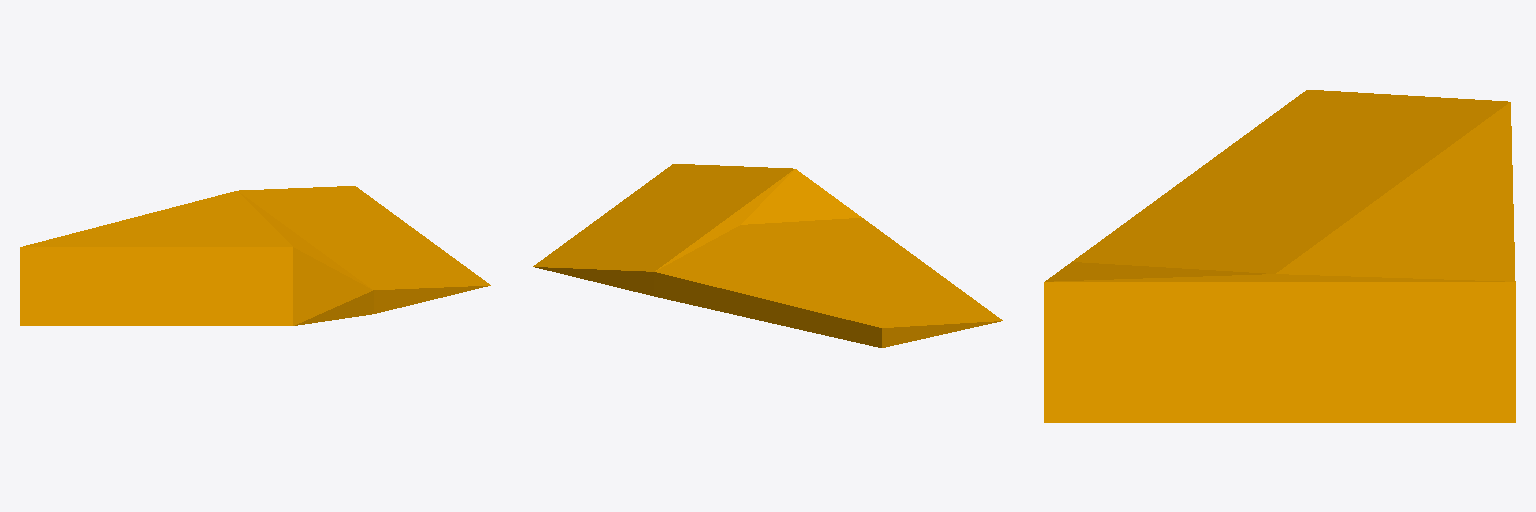
The robot description file, URDF, robot "block2_9_11":
<?xml version="1.0" ?>
<robot name="block2_9_11">
  <link name="block2_9_11__link_0">
    <inertial>
      <mass value="1000"/>
      <origin rpy="0 0 0" xyz="0 0 0"/>
      <inertia ixx="0.166667" ixy="0" ixz="0" iyy="0.166667" iyz="0" izz="0.166667"/>
    </inertial>
    <collision name="block2_9_11__collision">
      <origin rpy="0 0 0" xyz="0 0 0"/>
      <geometry>
        <mesh filename="package://block2_9_11/block2_9_11.stl" scale="1 1 1"/>
      </geometry>
    </collision>
    <visual name="block2_9_11__visual">
      <origin rpy="0 0 0" xyz="0 0 0"/>
      <geometry>
        <mesh filename="package://block2_9_11/block2_9_11.stl" scale="1 1 1"/>
      </geometry>
    </visual>
  </link>
</robot>

--- What the picture shows (computed from the rendered views, not written in the file) ---
Views: 3 orthographic renders of the robot side by side, from view 1: azimuth 30°, elevation 25°; view 2: azimuth 150°, elevation 25°; view 3: azimuth 270°, elevation 25°.
Model block2_9_11 with 1 links and 0 joints (none), rooted at block2_9_11__link_0, posed every joint at zero.
Links seen in each view (by area): view 1: block2_9_11__link_0; view 2: block2_9_11__link_0; view 3: block2_9_11__link_0.
Boxes of the visible links, left/top/right/bottom form: block2_9_11__link_0: left=20, top=186, right=490, bottom=325; block2_9_11__link_0: left=533, top=164, right=1002, bottom=347; block2_9_11__link_0: left=1044, top=90, right=1515, bottom=422.
Bounding box of the posed robot: 5.03 × 3.01 × 0.291 m (x, y, z).
Meshes: 1 distinct files referenced, 1 mesh visuals loaded (1 binary STL).